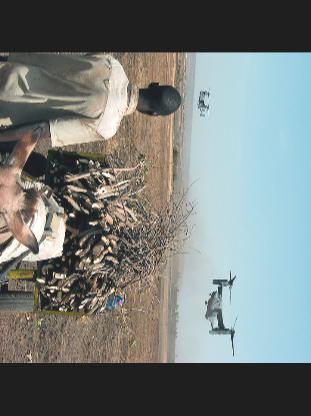Tornado: (204, 270, 237, 357), (196, 86, 209, 117)
